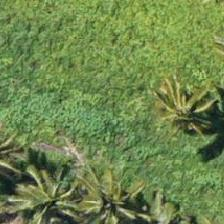coconut_tree: (140, 64, 223, 154), (0, 155, 89, 223), (54, 158, 144, 223)
